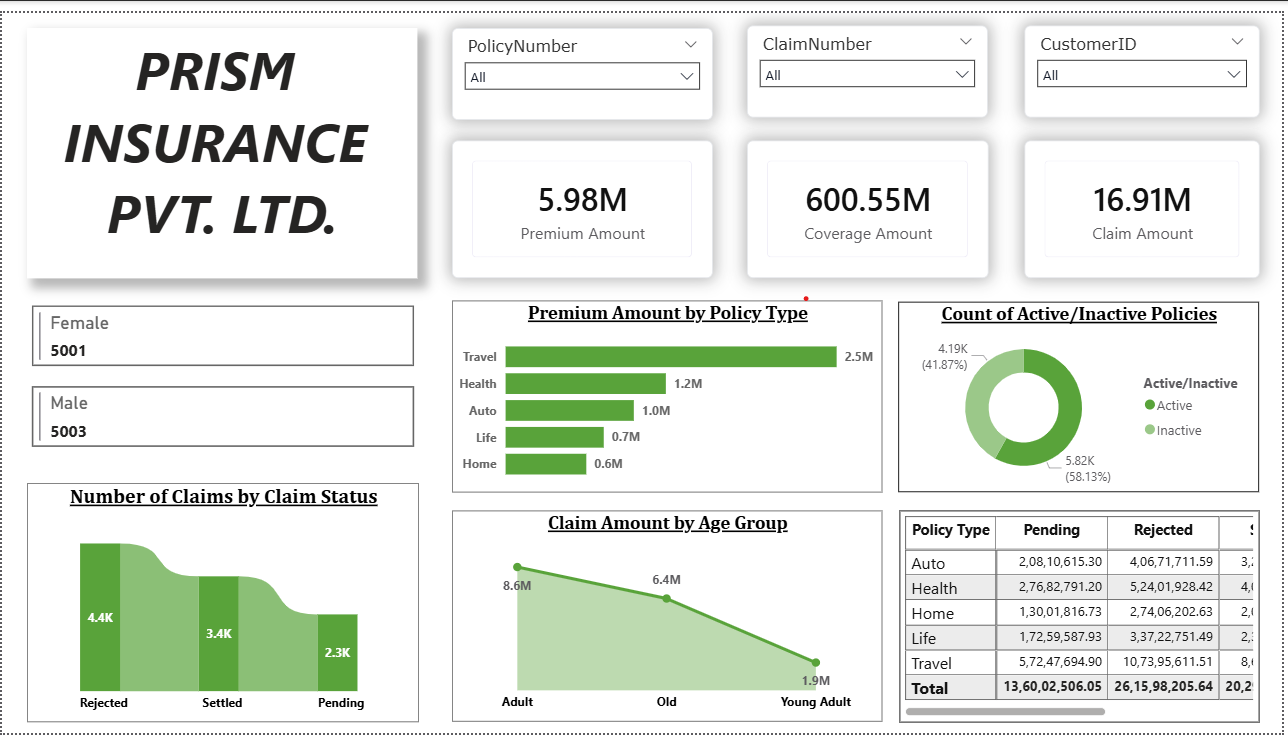

This screenshot's page, from the dashboard's own definition file:
{"tool":"powerbi","page":{"name":"Overview Dashboard","canvas":[1280,720],"ordinal":0},"visuals":[{"type":"slicer","fields":{"Values":["InsuranceData.PolicyNumber"]},"box":[450,15.1,260.5,91.9],"z":0},{"type":"slicer","fields":{"Values":["InsuranceData.ClaimNumber"]},"box":[745.4,12.8,240.7,91.9],"z":1000},{"type":"slicer","fields":{"Values":["InsuranceData.CustomerID"]},"box":[1022.1,12.8,234.9,91.9],"z":2000},{"type":"textbox","box":[25.6,15.1,390.7,250],"z":3000},{"type":"cardVisual","title":"Premium Amount","fields":{"Data":["Sum(InsuranceData.PremiumAmount)"]},"box":[450,127.9,260.5,137.2],"z":4000},{"type":"multiRowCard","fields":{"Values":["InsuranceData.Gender","CountNonNull(InsuranceData.Gender)"]},"box":[25.6,287.2,391.9,179.1],"z":5000},{"type":"ribbonChart","title":"Number of Claims by Claim Status","fields":{"Category":["InsuranceData.ClaimStatus"],"Y":["CountNonNull(InsuranceData.ClaimStatus)"]},"box":[25.6,469.8,391.9,239.5],"z":6000},{"type":"barChart","fields":{"Category":["InsuranceData.PolicyType"],"Y":["Sum(InsuranceData.PremiumAmount)"]},"box":[450,287.2,430.2,191.9],"z":7000},{"type":"lineChart","title":"Claim Amount by Age Group","fields":{"Category":["InsuranceData.Age Group"],"Y":["Sum(InsuranceData.ClaimAmount)"]},"box":[450,497.5,430,211.2],"z":8000},{"type":"donutChart","title":"Count of Active/Inactive Policies","fields":{"Category":["InsuranceData.Active/Inactive"],"Y":["CountNonNull(InsuranceData.Active/Inactive)"]},"box":[896.5,288.4,360.5,190.7],"z":9000},{"type":"pivotTable","fields":{"Rows":["InsuranceData.PolicyType"],"Values":["Sum(InsuranceData.CoverageAmount)"],"Columns":["InsuranceData.ClaimStatus"]},"box":[897,498,360,212],"z":10000},{"type":"cardVisual","title":"Coverage Amount","fields":{"Data":["Sum(InsuranceData.CoverageAmount)"]},"box":[745,127.5,241.2,137.5],"z":11000},{"type":"cardVisual","title":"Claim Amount","fields":{"Data":["Sum(InsuranceData.ClaimAmount)"]},"box":[1022.5,127.5,235,137.5],"z":12000}]}

Visuals, with their boxes in screenshot pixels (x1, y1, x2, y2), scaled from the page's 1280x720 canvas onto the 1288x735 screenshot:
slicer - InsuranceData.PolicyNumber: (left=453, top=15, right=715, bottom=109)
slicer - InsuranceData.ClaimNumber: (left=750, top=13, right=992, bottom=107)
slicer - InsuranceData.CustomerID: (left=1028, top=13, right=1265, bottom=107)
textbox: (left=26, top=15, right=419, bottom=271)
"Premium Amount" cardVisual: (left=453, top=131, right=715, bottom=271)
multiRowCard - InsuranceData.Gender x CountNonNull(InsuranceData.Gender): (left=26, top=293, right=420, bottom=476)
"Number of Claims by Claim Status" ribbonChart: (left=26, top=480, right=420, bottom=724)
barChart - InsuranceData.PolicyType x Sum(InsuranceData.PremiumAmount): (left=453, top=293, right=886, bottom=489)
"Claim Amount by Age Group" lineChart: (left=453, top=508, right=886, bottom=723)
"Count of Active/Inactive Policies" donutChart: (left=902, top=294, right=1265, bottom=489)
pivotTable - InsuranceData.PolicyType x Sum(InsuranceData.CoverageAmount): (left=903, top=508, right=1265, bottom=725)
"Coverage Amount" cardVisual: (left=750, top=130, right=992, bottom=271)
"Claim Amount" cardVisual: (left=1029, top=130, right=1265, bottom=271)
